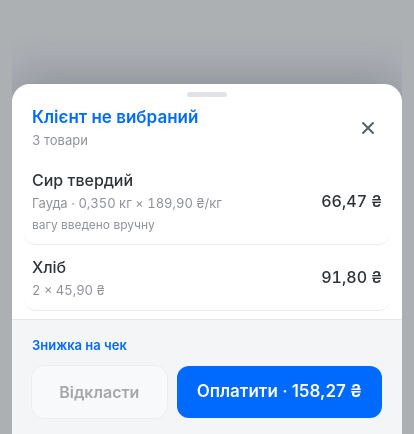
MobileCartSheet with a weighed line › counts a weighing as one item and offers the pad
Expected: the text "3 товари" is shown, [32,132,88,148]
Expected: the button with aria-label "Оплатити 158,27 ₴" is shown, [177,366,382,418]
Click the text "Сир твердий": (83, 180) [32,170,133,190]
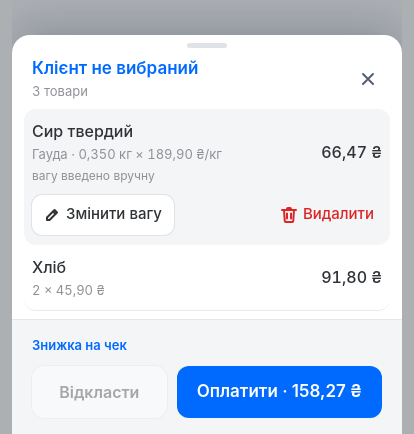
Now the button with test id "cart-line-reweigh" is shown, box [32,194,174,234]
